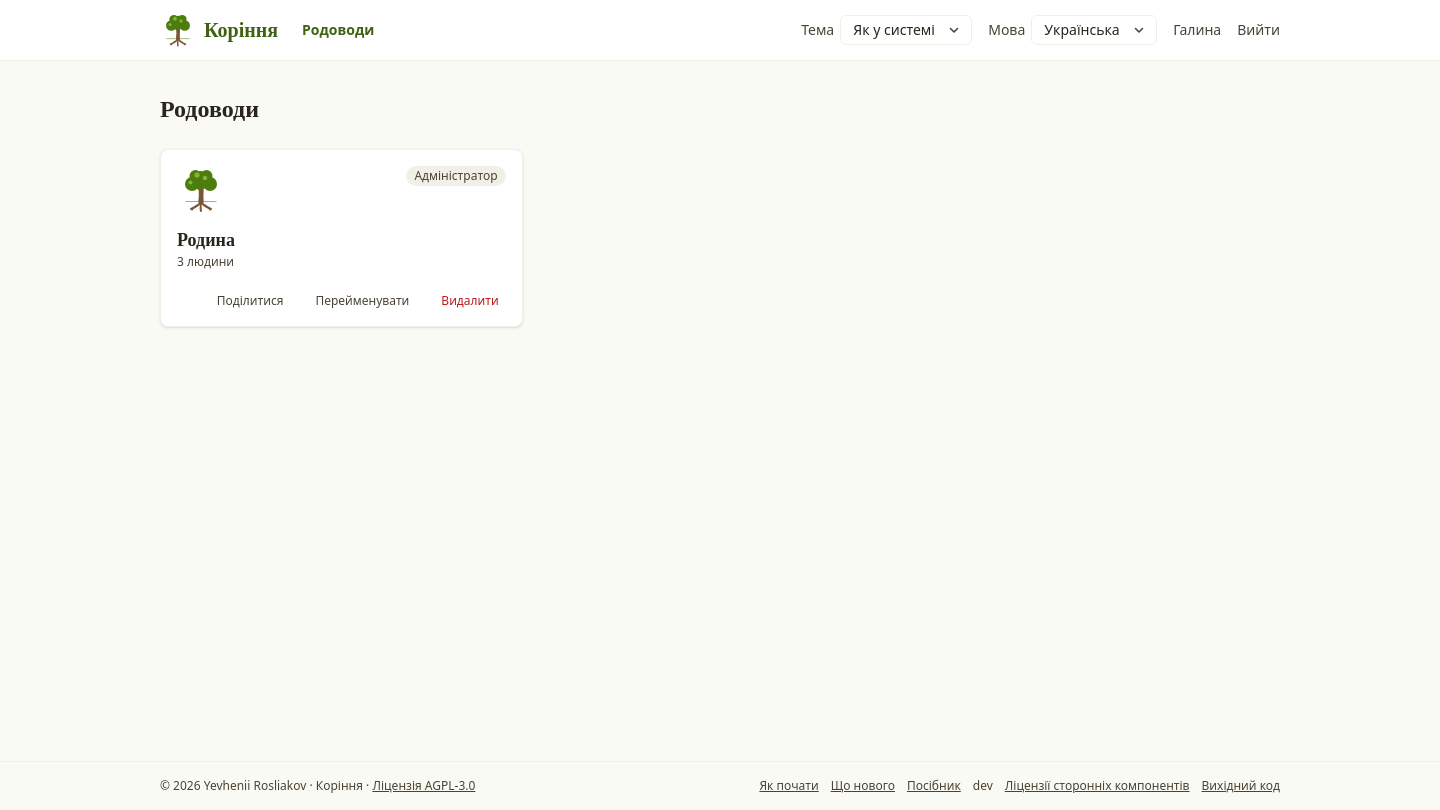
Test: managing share links › creates a link, shows it once and revokes it
The image size is (1440, 810).
Click the button with aria-label "Поділитися родоводом «Родина»" at (250, 301), box left=205, top=287, right=295, bottom=315
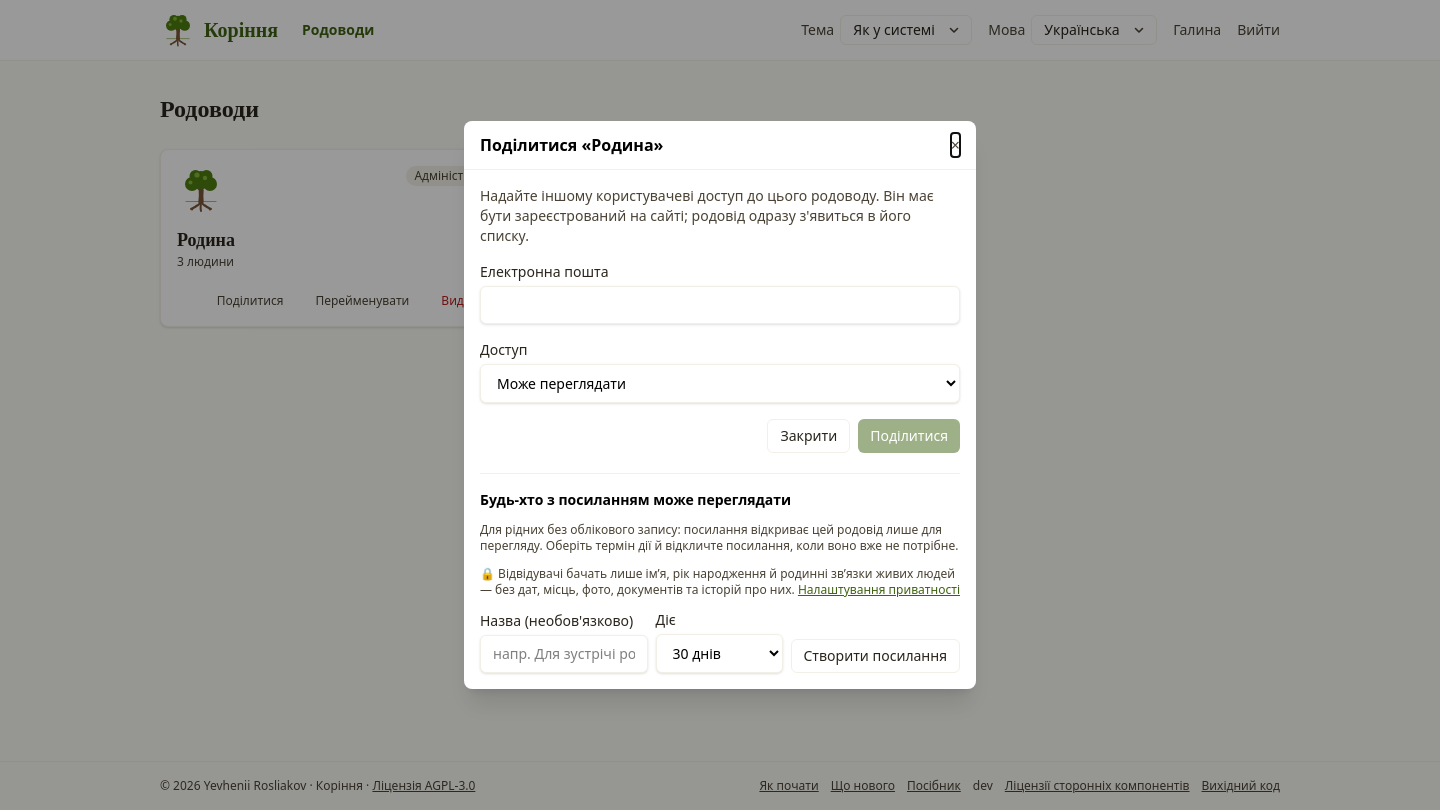
Type "Для зустрічі" into the field labelled "Назва (необов'язково)" at (564, 654), box left=480, top=635, right=648, bottom=673
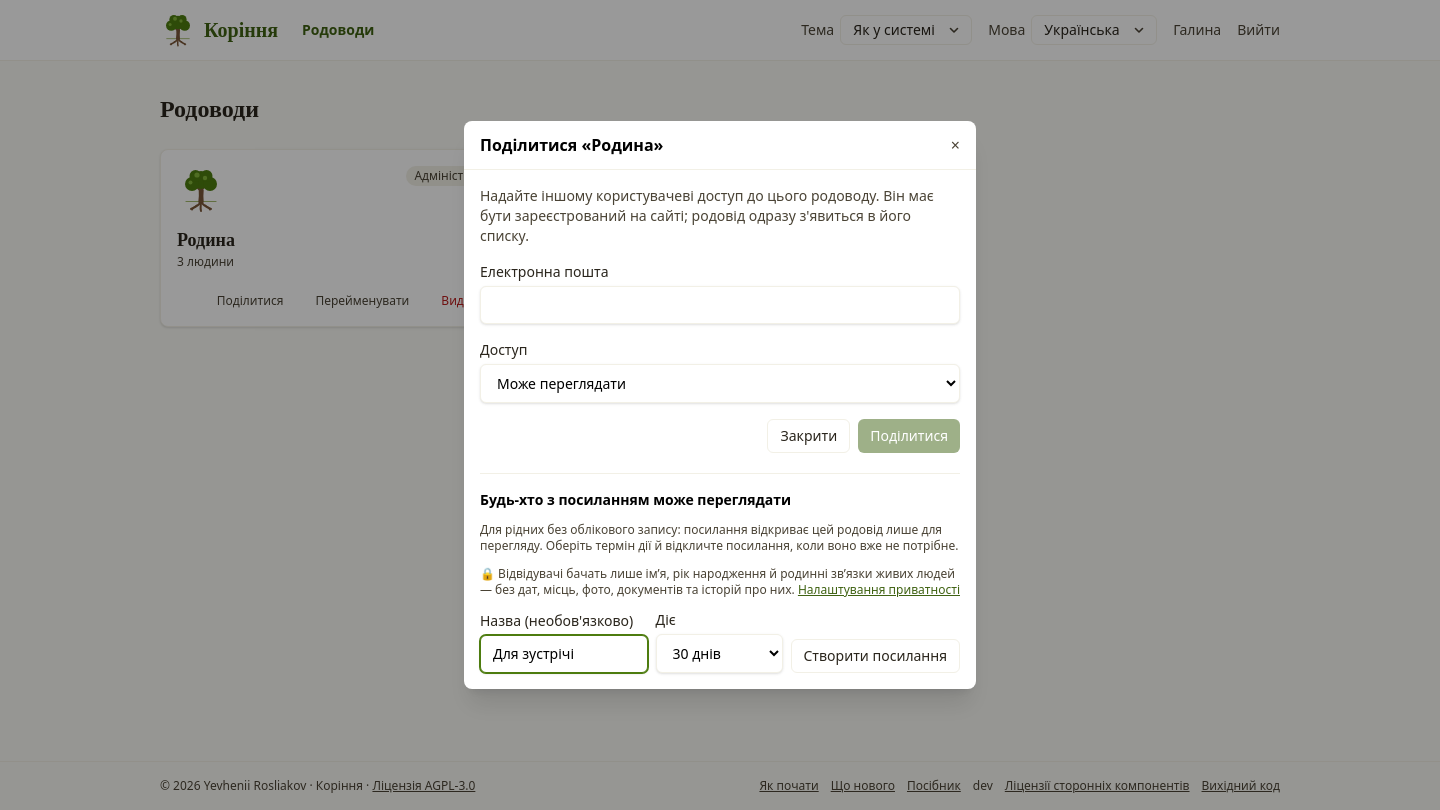
Select "Без терміну" in the dropdown labelled "Діє" at (719, 654), box left=656, top=634, right=782, bottom=673
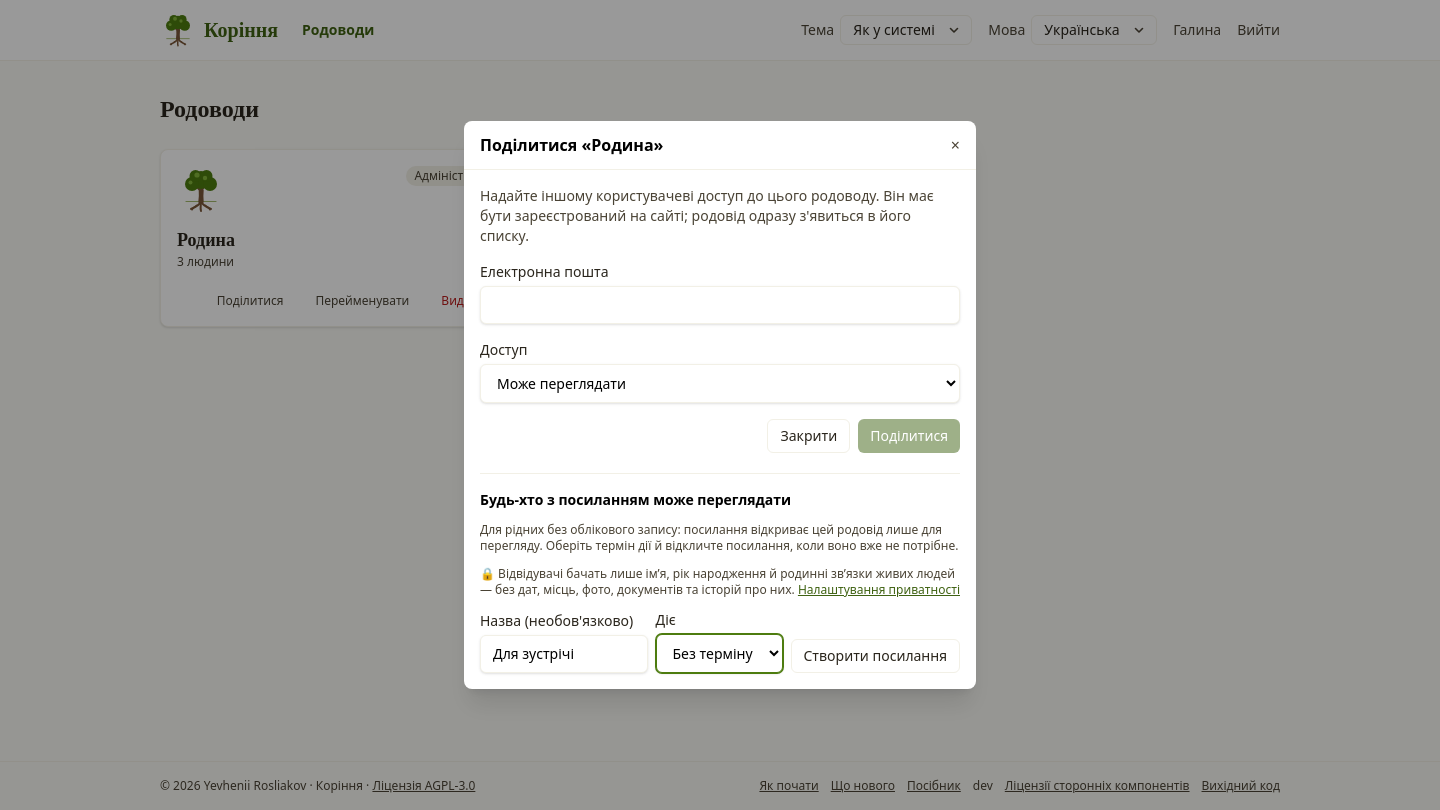
Click the button "Створити посилання" at (875, 656), box left=790, top=639, right=960, bottom=673
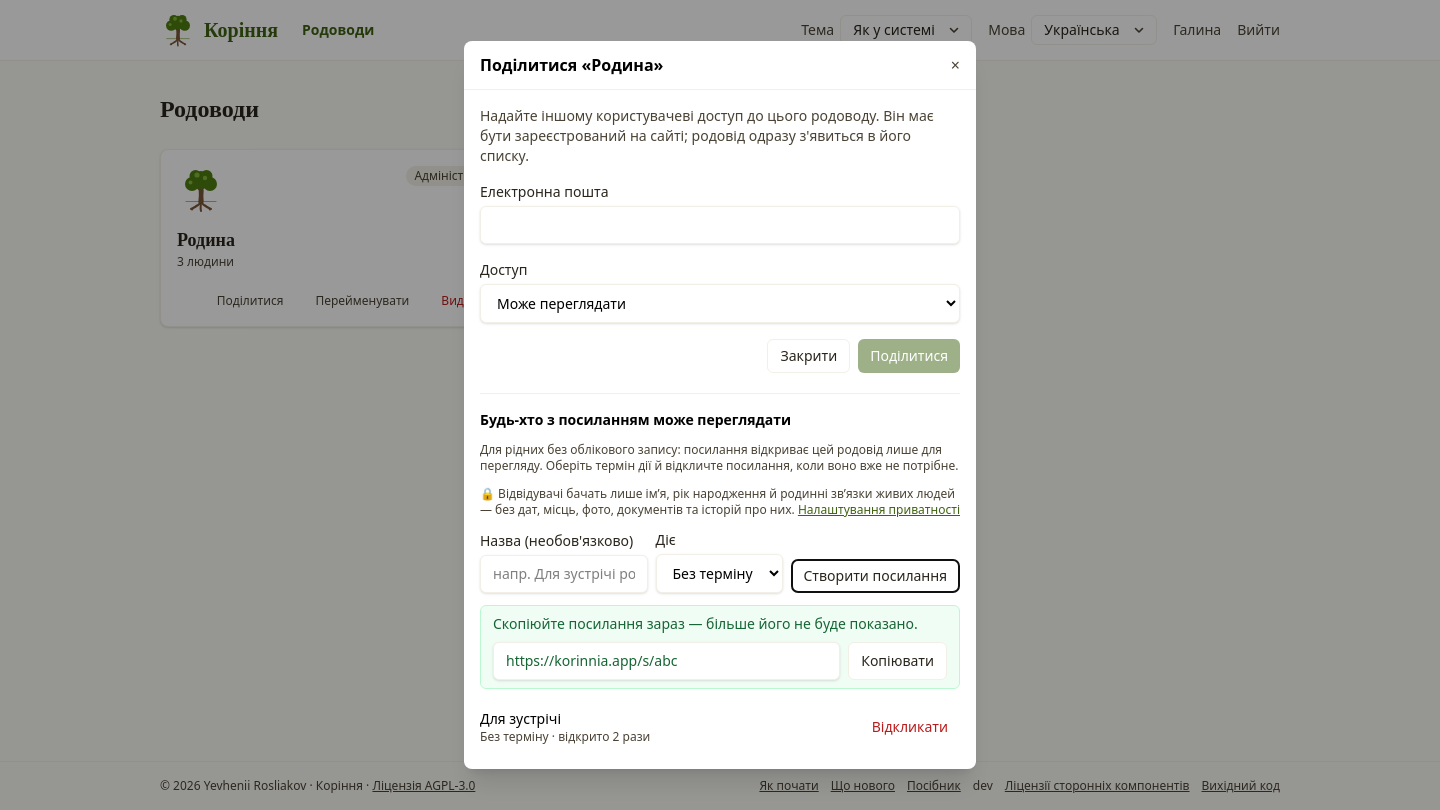
Result: the field showing "https://korinnia.app/s/abc" is shown at left=493, top=642, right=840, bottom=680
Result: the text "Без терміну · відкрито 2 рази" is shown at left=480, top=729, right=650, bottom=745
Click the button "Відкликати" at (910, 727), box left=860, top=711, right=960, bottom=743
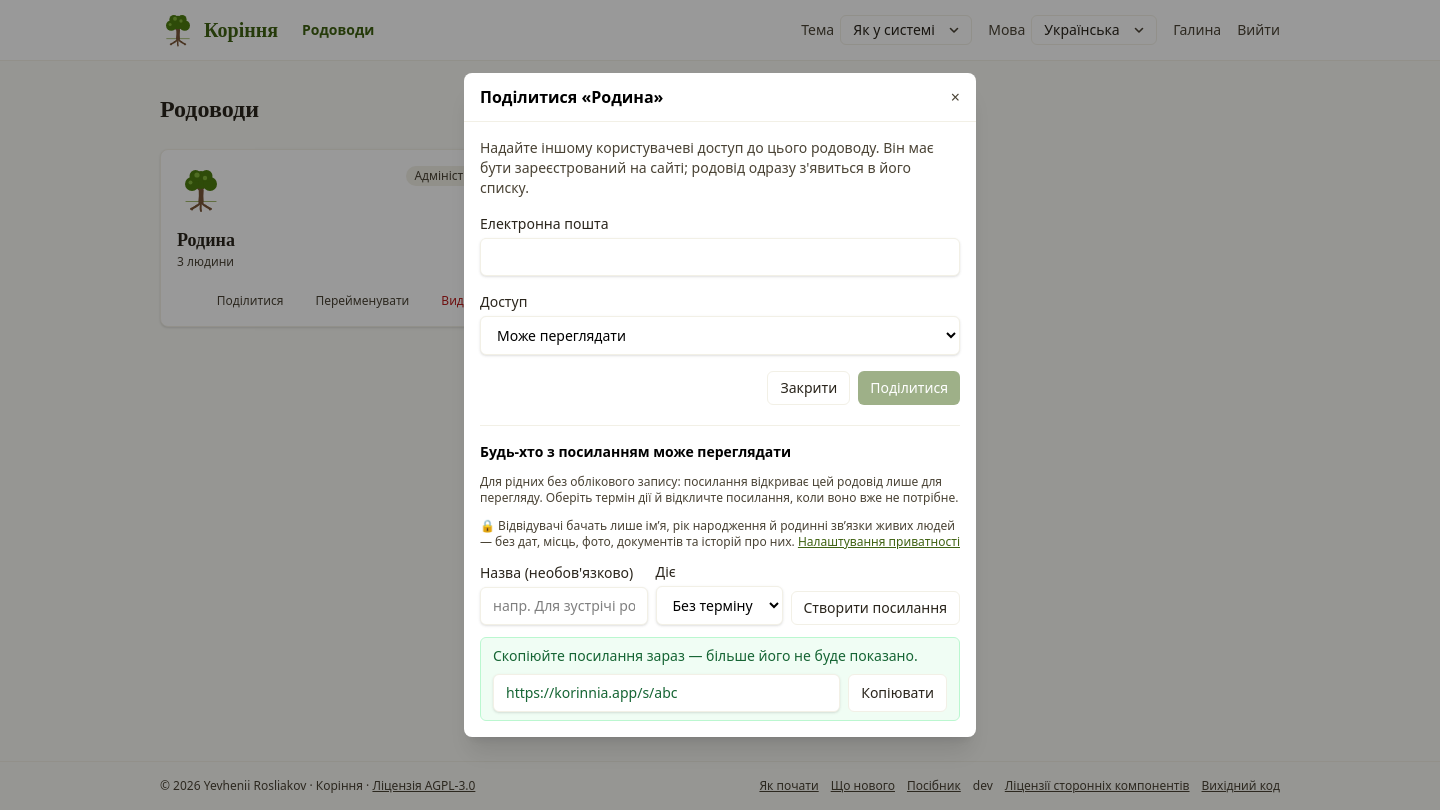
Result: the text "відкрито 2 рази" is gone
